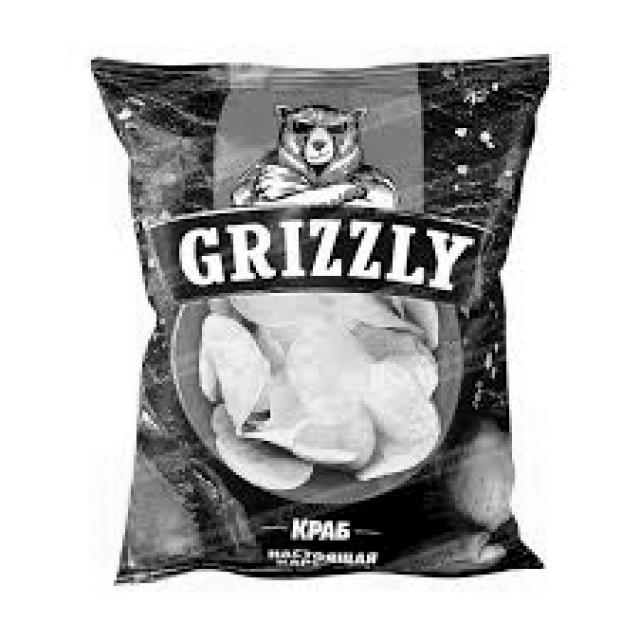grizzly: (134, 96, 490, 309)
